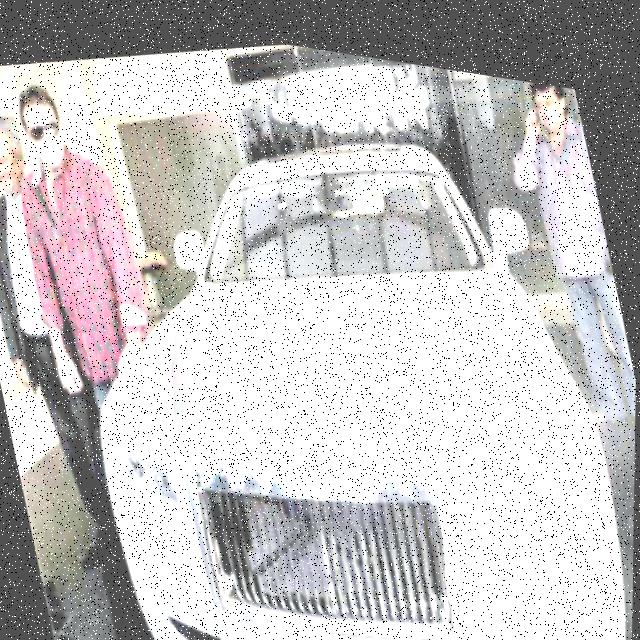license_plate: (255, 582, 432, 640)
